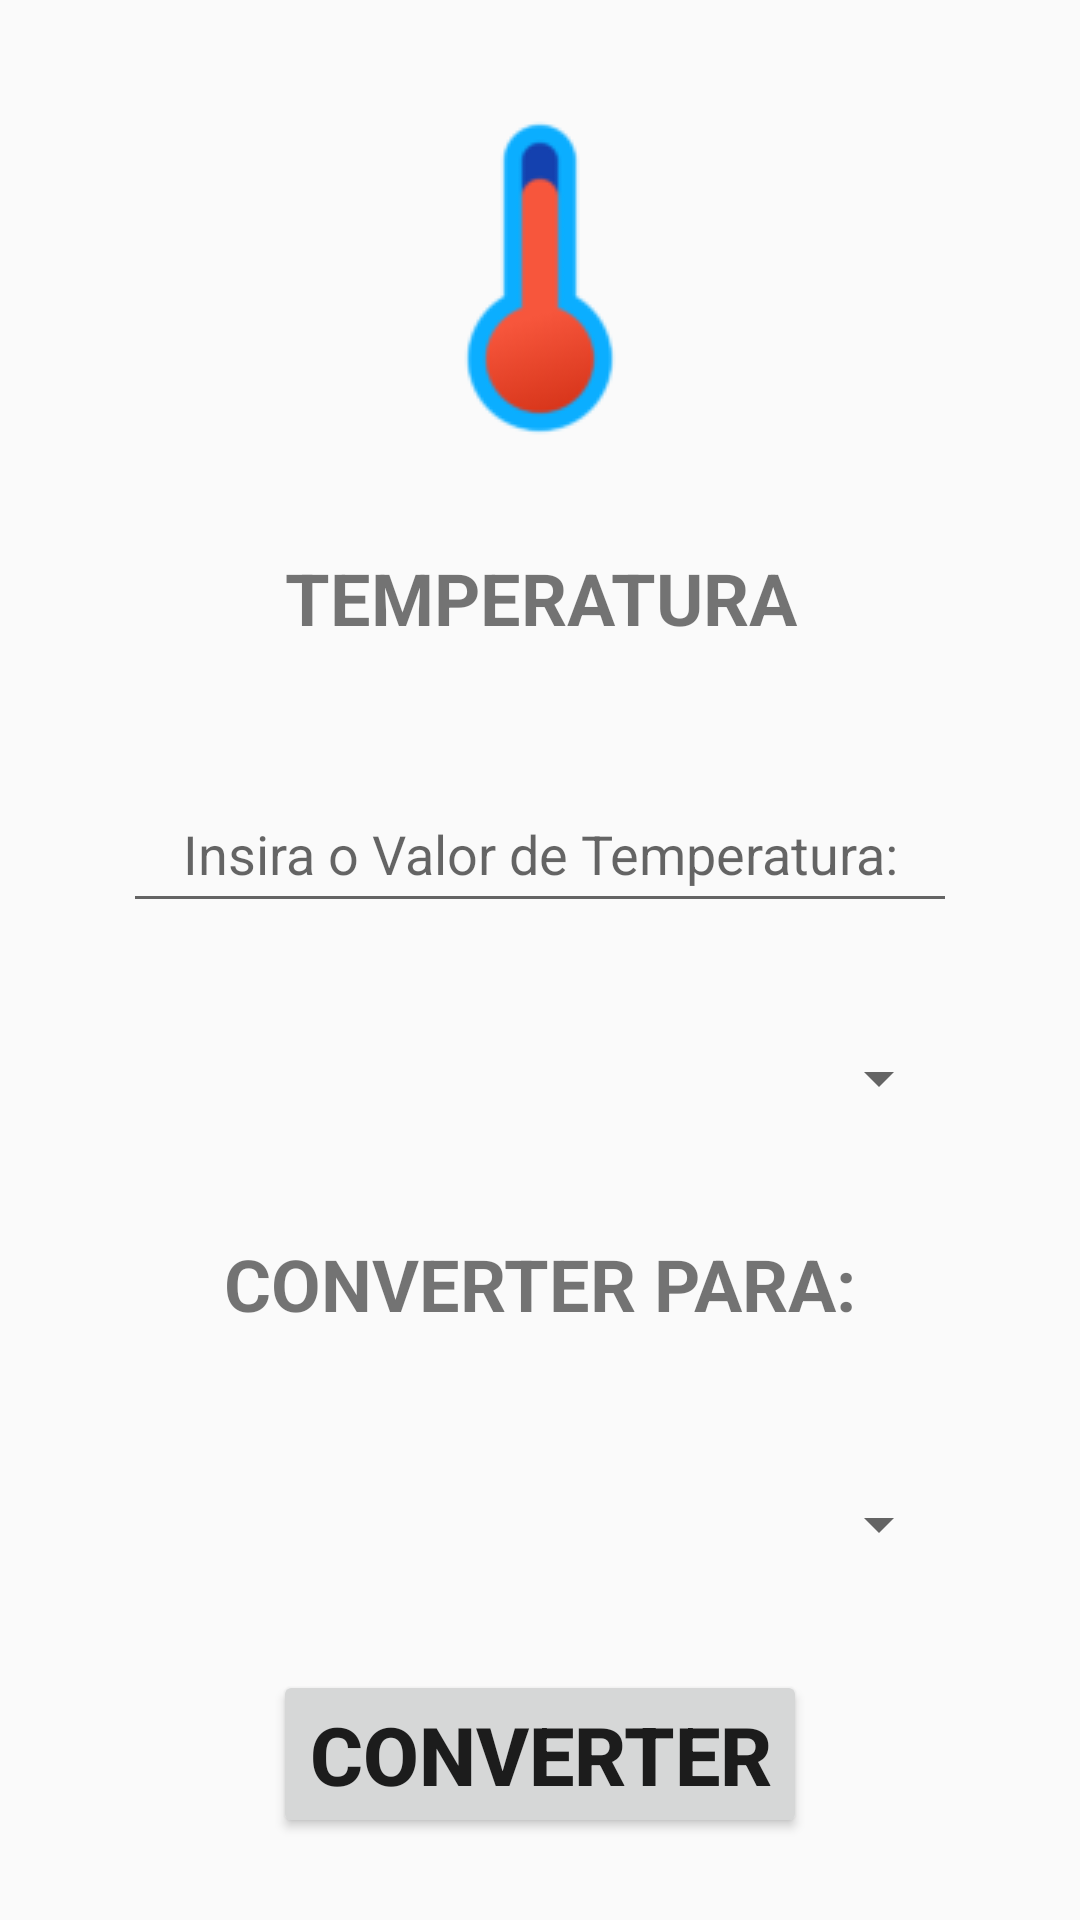

Icons on this 1080x1920 Android screen, each with its box as rect(x1, y1, x2, y2):
termometro: rect(466, 123, 614, 433)
